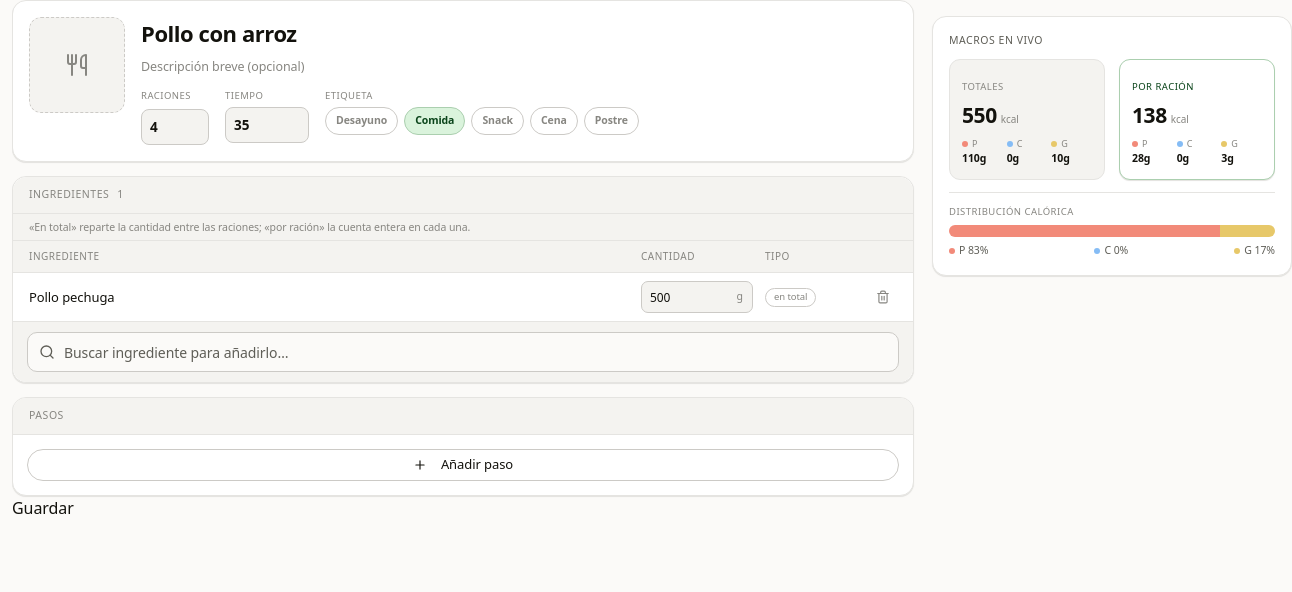
RecipeEditorForm — removing a row (inline confirm, Cancelar on the outside) › confirming removes the row — and the live macros drop with it
Click the button named "Quitar Pollo pechuga de la receta" at (883, 297), box [869,283,897,311]
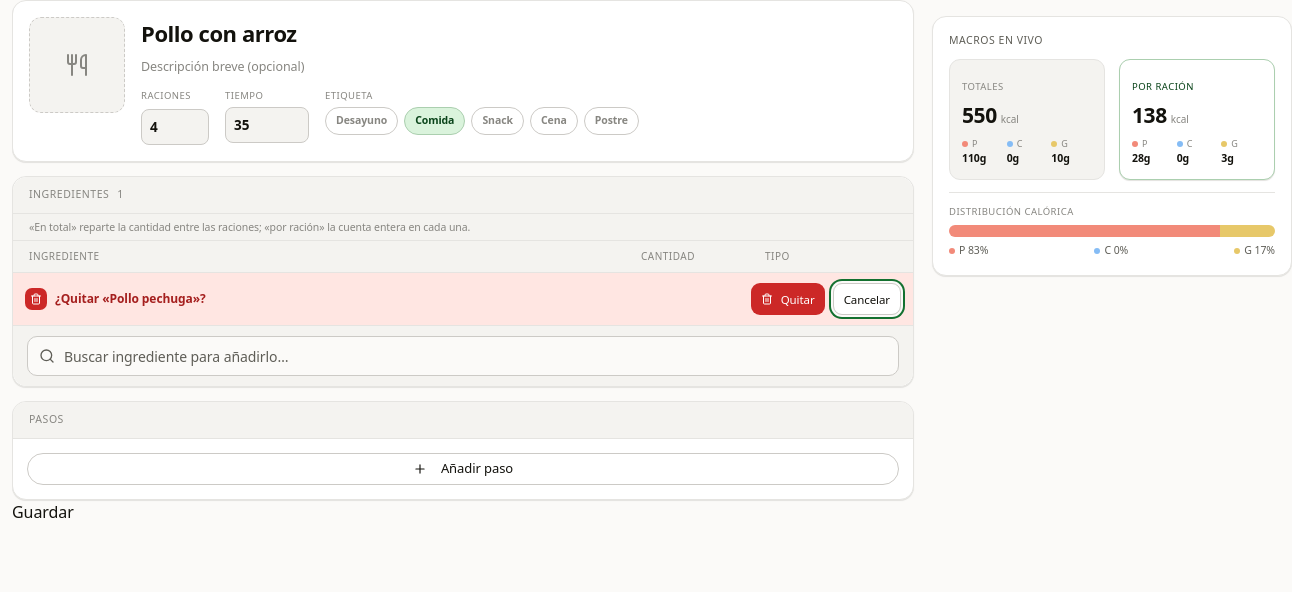
Click the button "Quitar" at (788, 299), box [751,283,825,315]
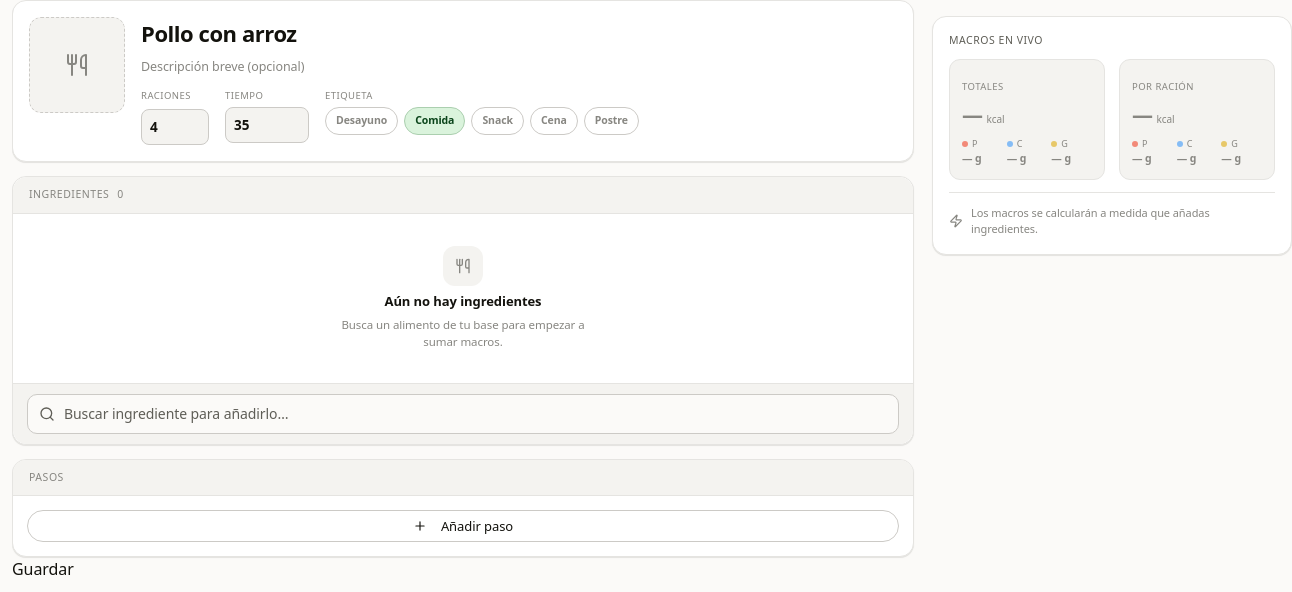
Expected: the text "Pollo pechuga" is gone
Expected: the text "Aún no hay ingredientes" is shown, [384,292,542,311]
